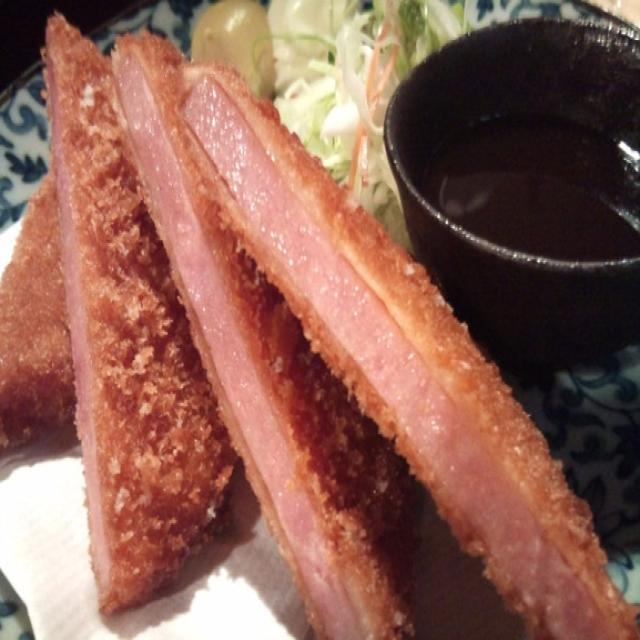炸货点心: (8, 4, 628, 626)
